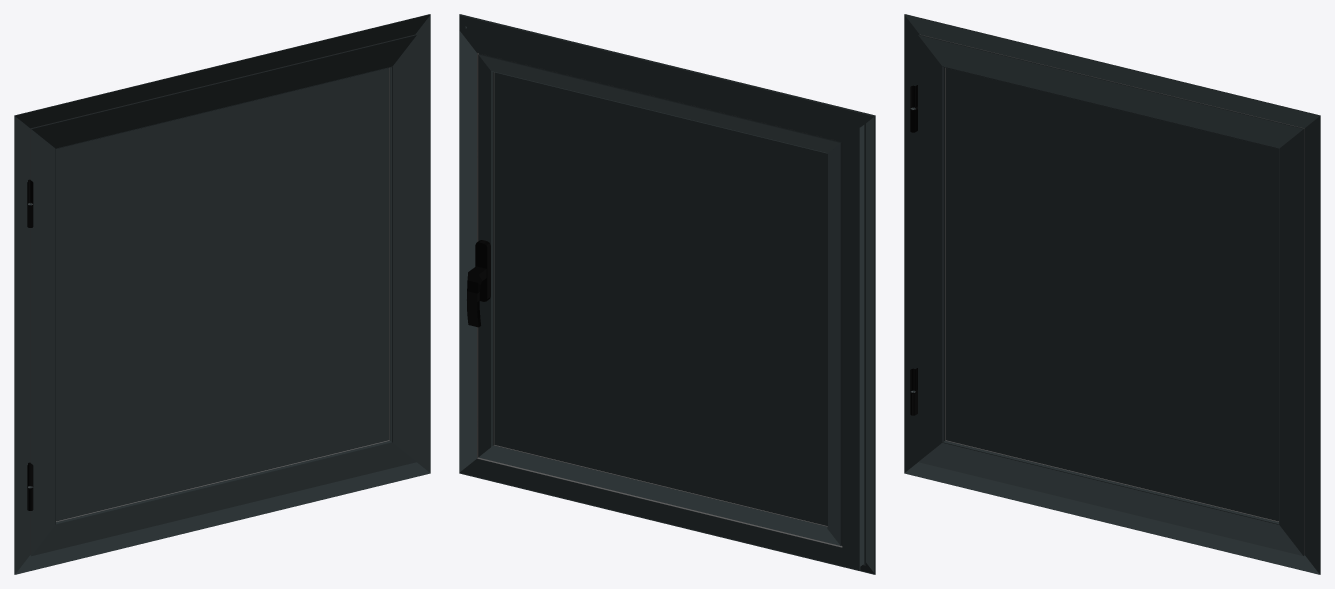
3 views of the same model, side by side, from view 1: azimuth 30°, elevation 25°; view 2: azimuth 150°, elevation 25°; view 3: azimuth 330°, elevation 25° (orthographic).
Visible parts, largest first — view 1: painel, ouvrant, 1folhas; view 2: painel, 1folhas, ouvrant, muleta, puxador; view 3: painel, ouvrant, 1folhas.
Part boxes in pixels (left/top/right/bottom): painel: left=56, top=67, right=389, bottom=521; ouvrant: left=27, top=34, right=416, bottom=556; 1folhas: left=14, top=14, right=430, bottom=574; painel: left=493, top=72, right=827, bottom=526; 1folhas: left=459, top=14, right=875, bottom=574; ouvrant: left=478, top=53, right=842, bottom=545; muleta: left=467, top=266, right=486, bottom=327; puxador: left=475, top=240, right=490, bottom=301; painel: left=945, top=67, right=1278, bottom=521; ouvrant: left=910, top=34, right=1304, bottom=556; 1folhas: left=904, top=14, right=1320, bottom=574.
Bounding box in the file's own units: 100 × 105 × 10.69.
1 material, 1 textured.
